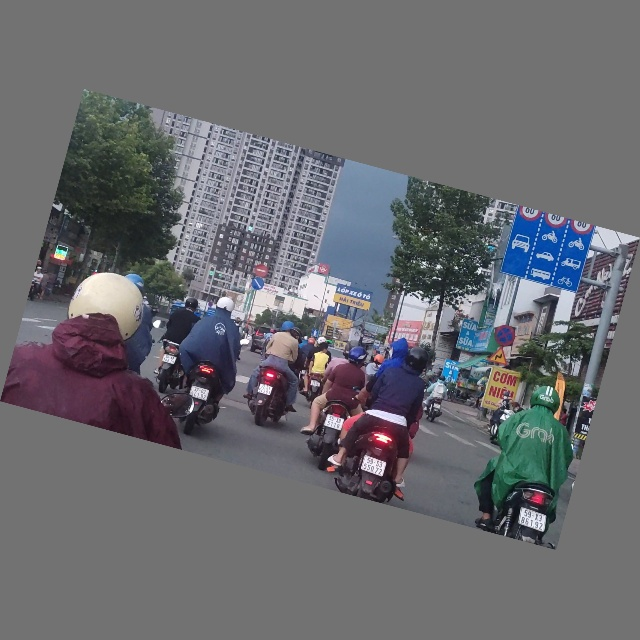I.407a: (310, 329, 320, 338)
I.434a: (372, 340, 381, 351)
P.102: (254, 264, 270, 280)
P.130: (492, 323, 518, 349)
R.302a: (250, 277, 266, 293)
R.415a: (500, 218, 592, 294)
W.202b: (488, 344, 512, 367)
